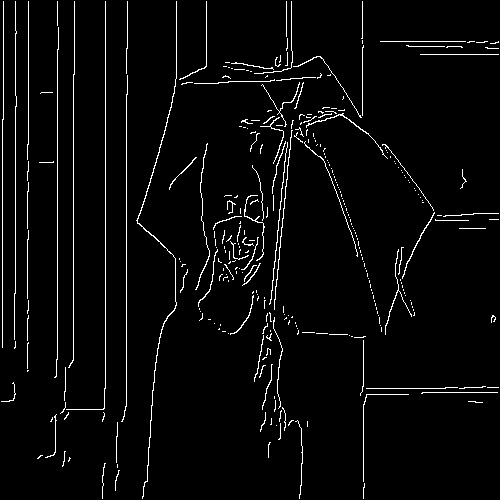mask: (207, 219, 268, 276)
